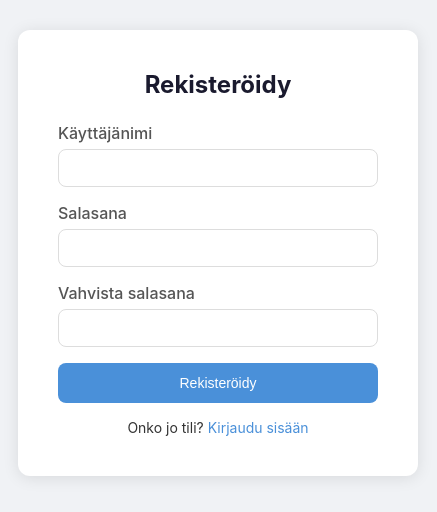
Register › näyttää virheen kun salasanat eivät täsmää
Type "newuser" into the field. click: (218, 168)
box: x1=58 y1=149 x2=378 y2=187
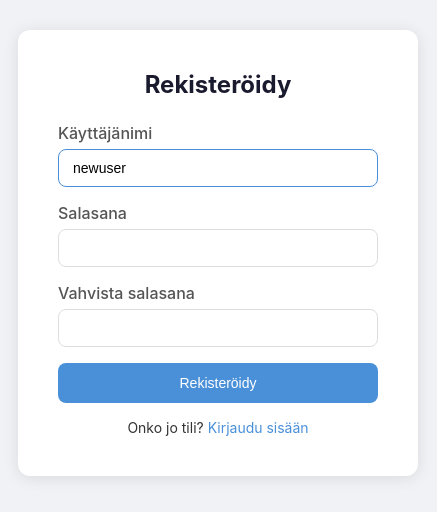
Type "password1" into the 1st password field. click: (218, 248)
box: x1=58 y1=229 x2=378 y2=267
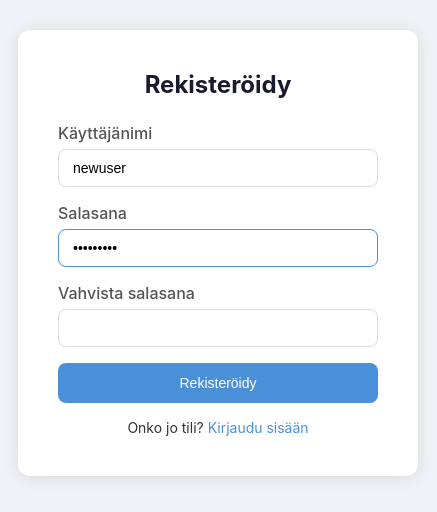
Type "password2" into the password field below "Vahvista salasana". click: (218, 328)
box: x1=58 y1=309 x2=378 y2=347
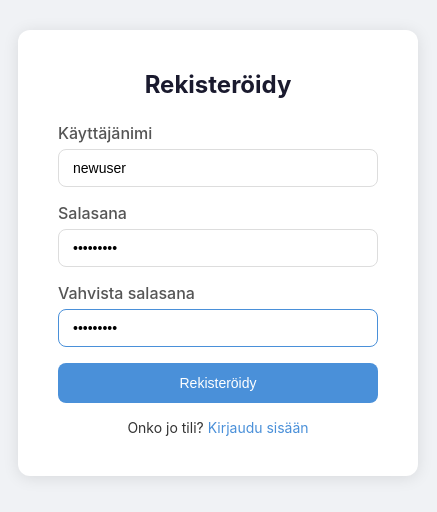
Click the button "Rekisteröidy". click: (218, 383)
box: x1=58 y1=363 x2=378 y2=403
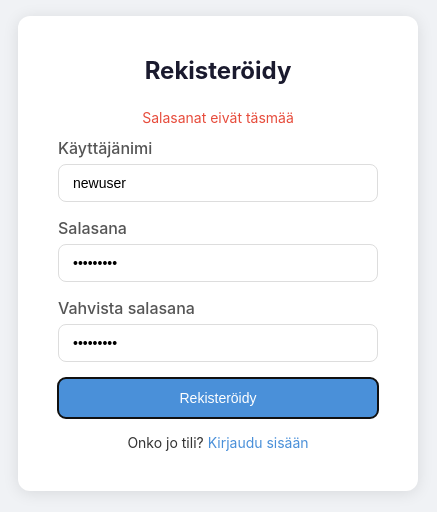
Expected: the text "Salasanat eivät täsmää" is shown, x1=142 y1=108 x2=294 y2=126
